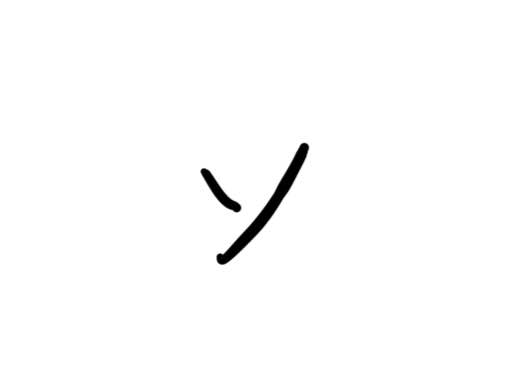n: (190, 137, 316, 270)
